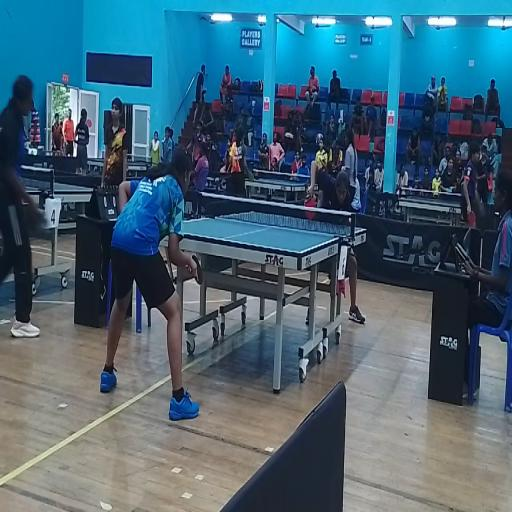ball: (348, 216, 352, 224)
